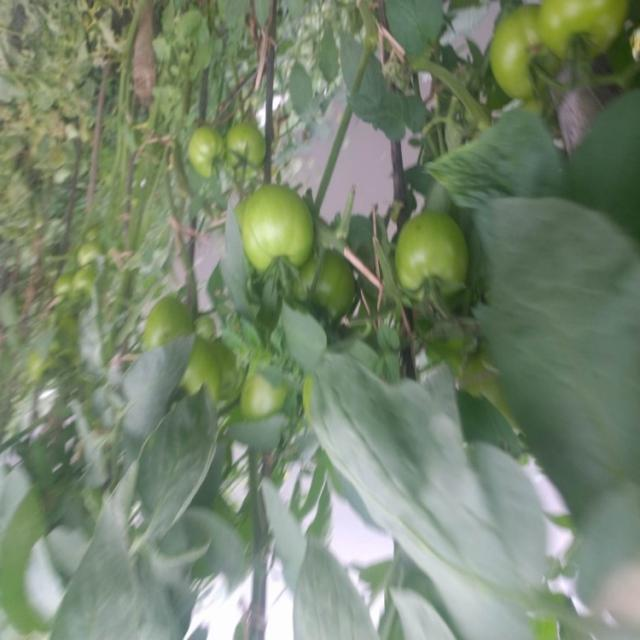tomato: (375, 201, 470, 303), (242, 191, 330, 281), (488, 2, 557, 108), (286, 256, 372, 328), (531, 1, 630, 59), (175, 323, 243, 404), (134, 295, 205, 357), (235, 355, 294, 427), (182, 124, 240, 183), (231, 120, 290, 175), (69, 273, 112, 309), (83, 239, 112, 283), (61, 283, 83, 307)
